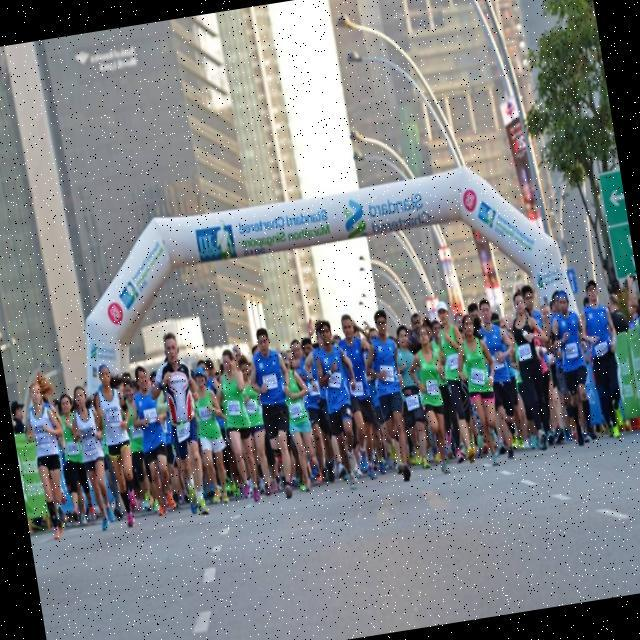Standard Chartered: (342, 188, 433, 239), (238, 208, 328, 236), (89, 340, 117, 365), (536, 268, 565, 290)
